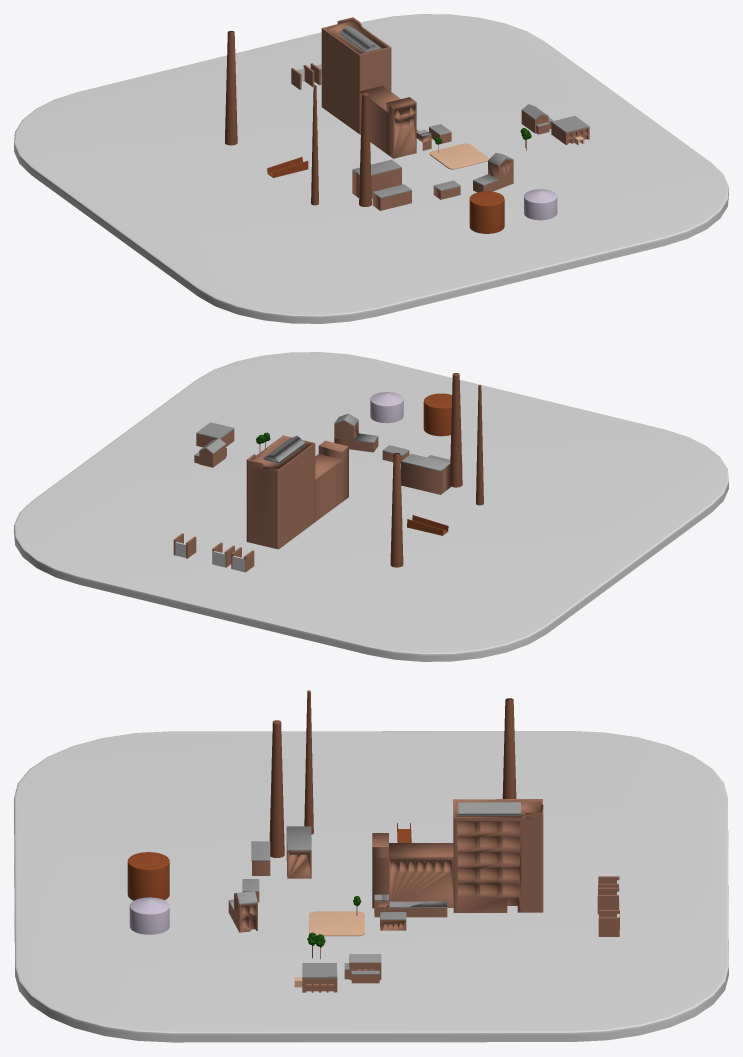
The model's file is map-without-interactive.glb.
The picture shows the model from 3 angles, top to bottom: view 1: azimuth 30°, elevation 25°; view 2: azimuth 150°, elevation 25°; view 3: azimuth 270°, elevation 25°; orthographic projection. The views are drawn at different scales.
Parts seen in each view (by area): view 1: ground, Cube.001, building-7-windows, Cylinder.002, Circle.001, Circle.003, Cube.008, Cube.013, Plane, Cylinder.001, Cube.028, Cube.014 (+4 smaller); view 2: ground, Cube.001, building-7-windows, Cube.013, Circle.003, Circle.001, Cylinder.002, Cube.008, Cylinder.001, Circle.002, Cube.028, Cube.017 (+2 smaller); view 3: ground, Cube.001, building-7-windows, Cylinder.002, Circle.001, Plane, Cylinder.001, Cube.013, Cube.011, Circle.003, Cube.028, Cube.008 (+4 smaller).
Part boxes in pixels (box(x1,y1,x2,y2)): ground: box(14, 14, 728, 323); Cube.001: box(321, 17, 391, 133); building-7-windows: box(359, 85, 416, 158); Cylinder.002: box(469, 191, 504, 233); Circle.001: box(359, 92, 371, 206); Circle.003: box(224, 31, 237, 145); Cube.008: box(473, 153, 513, 192); Cube.013: box(352, 159, 401, 198); Plane: box(429, 143, 488, 169); Cylinder.001: box(524, 189, 557, 220); Cube.028: box(551, 116, 589, 144); Cube.014: box(372, 184, 411, 210); ground: box(14, 352, 728, 661); Cube.001: box(246, 435, 315, 549); building-7-windows: box(315, 440, 348, 521); Cube.013: box(401, 453, 450, 494); Circle.003: box(390, 453, 403, 567); Circle.001: box(450, 373, 462, 487); Cylinder.002: box(423, 393, 451, 436); Cube.008: box(334, 413, 378, 452); Cylinder.001: box(370, 392, 403, 423); Circle.002: box(476, 385, 483, 505); Cube.028: box(196, 422, 234, 447); Cube.017: box(199, 438, 225, 467); ground: box(14, 731, 728, 1042); Cube.001: box(453, 799, 543, 912); building-7-windows: box(372, 833, 453, 908); Cylinder.002: box(127, 852, 169, 900); Circle.001: box(269, 720, 284, 857); Plane: box(309, 911, 364, 936); Cylinder.001: box(129, 897, 169, 934); Cube.013: box(286, 826, 311, 878); Cube.011: box(374, 894, 447, 917); Circle.003: box(502, 698, 516, 798); Cube.028: box(302, 963, 337, 992); Cube.008: box(228, 891, 257, 932).
Size of the model in its own units: 10.85 by 2.54 by 10.85.
